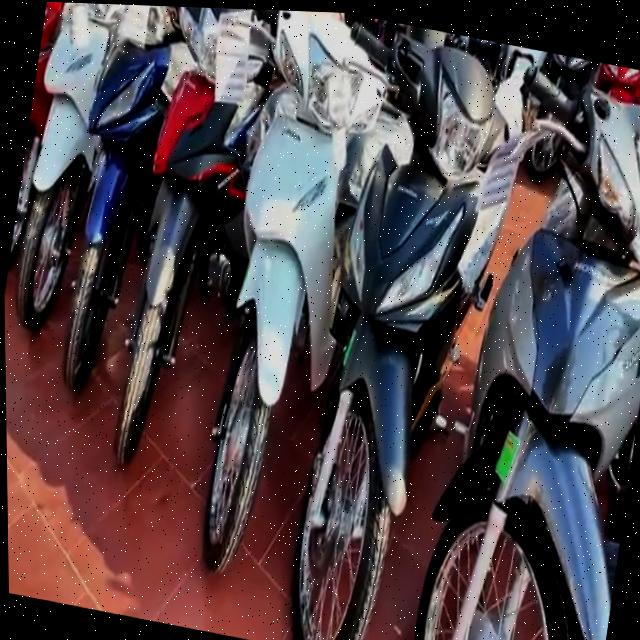motorcycle: (253, 10, 541, 640), (389, 49, 640, 640), (178, 7, 364, 581), (0, 0, 204, 454)
